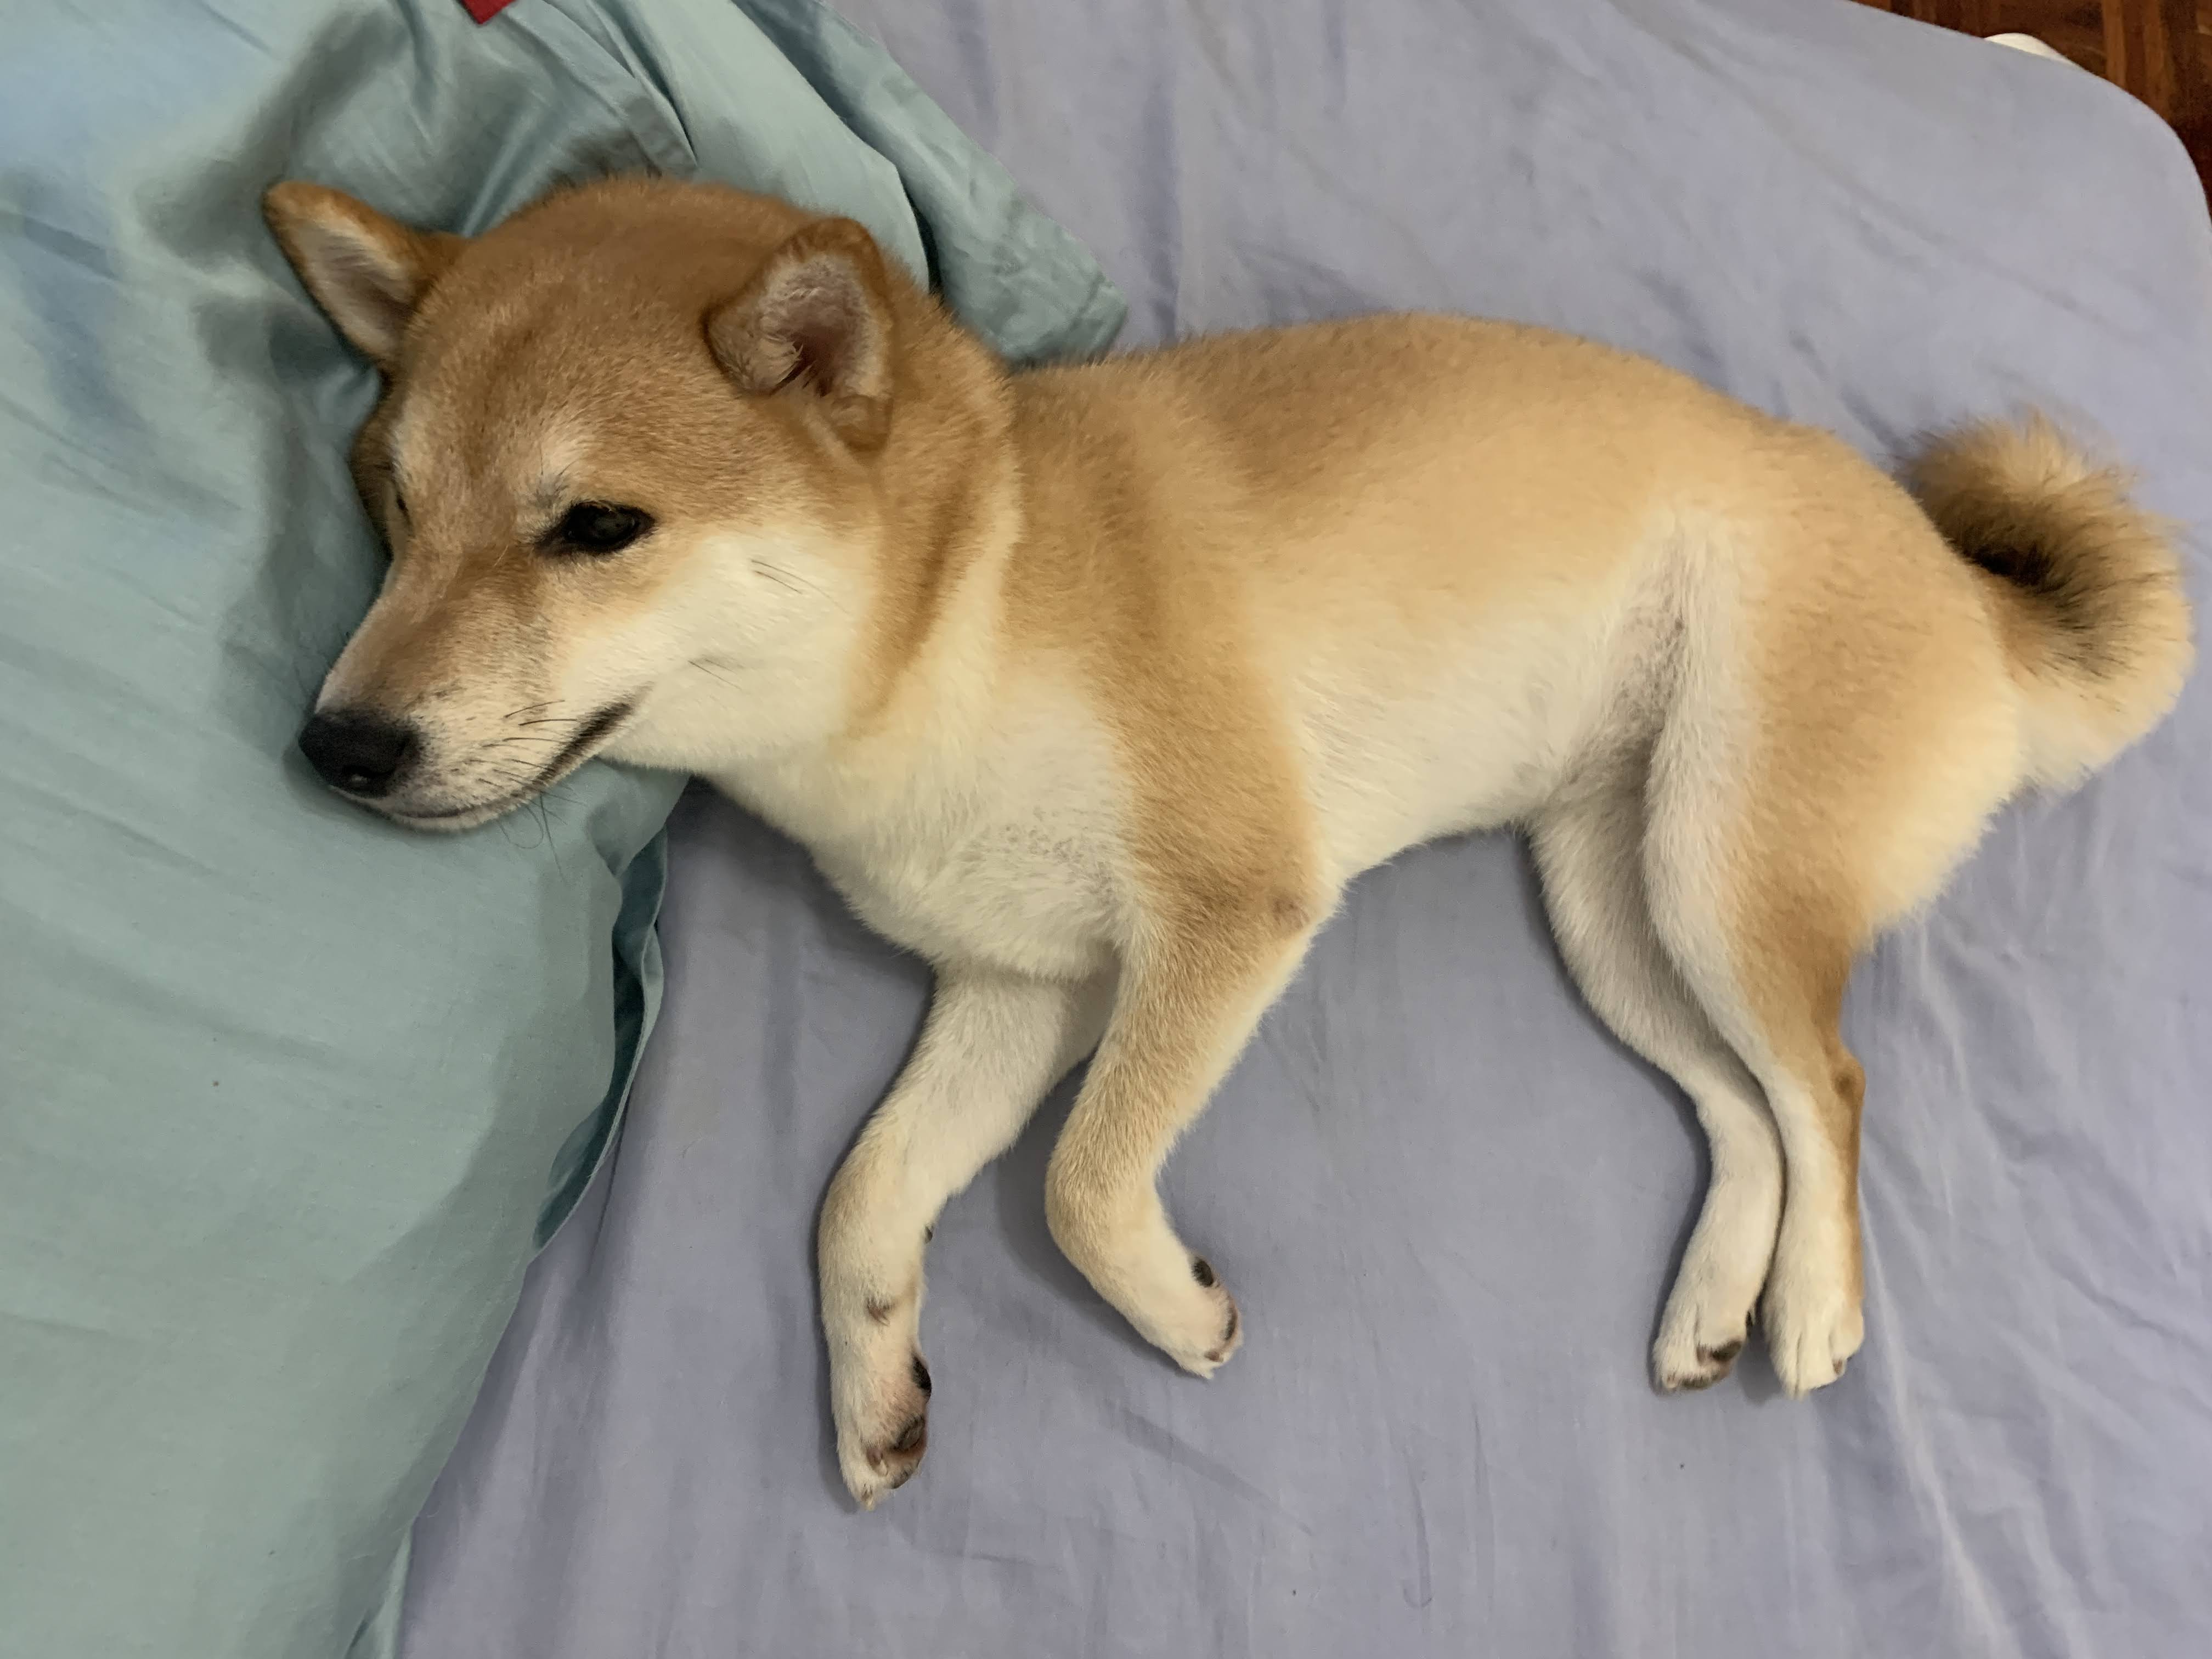Get down: (214, 108, 2212, 1445)
